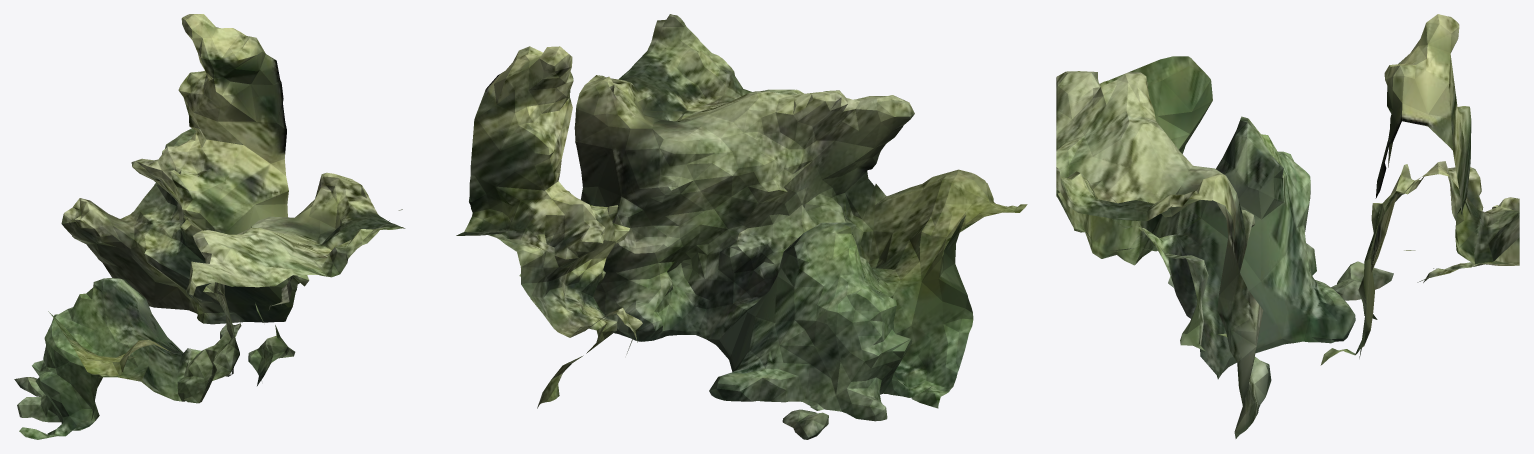
3 renders of one model, left to right at view 1: azimuth 30°, elevation 25°; view 2: azimuth 150°, elevation 25°; view 3: azimuth 270°, elevation 25°, orthographic. The views are drawn at different scales.
Bounding box in the file's own units: 11.8 × 10.8 × 11.8.
Materials: 4 (4 with a texture image).
